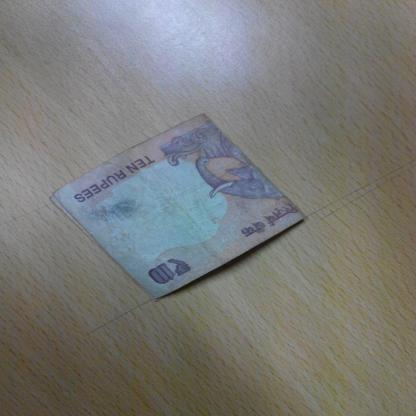Old10Back: (49, 113, 309, 302)
